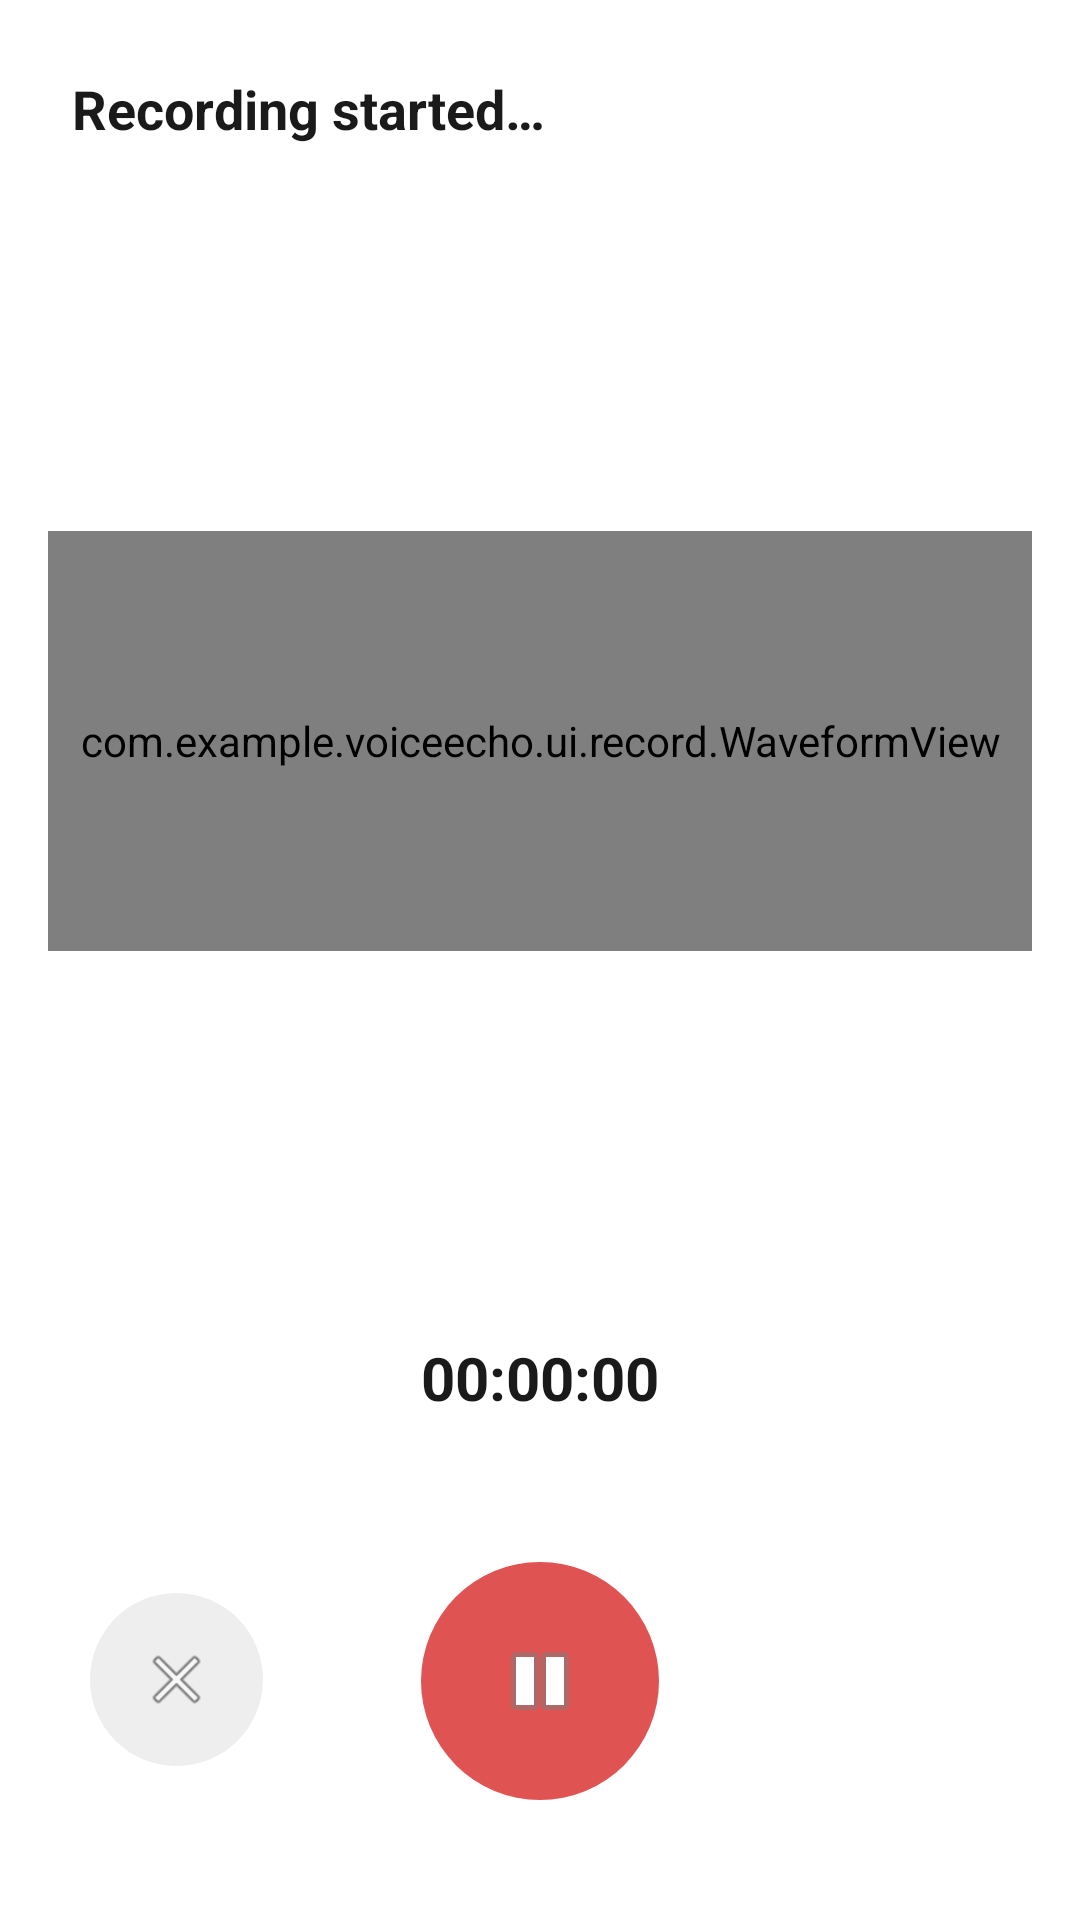

Icon bounding boxes for this 1080px×1920px phone screenshot, format (x1, y1, x2, y2):
Cancel: (90, 1593, 263, 1766)
Pause or resume recording: (421, 1562, 659, 1800)
